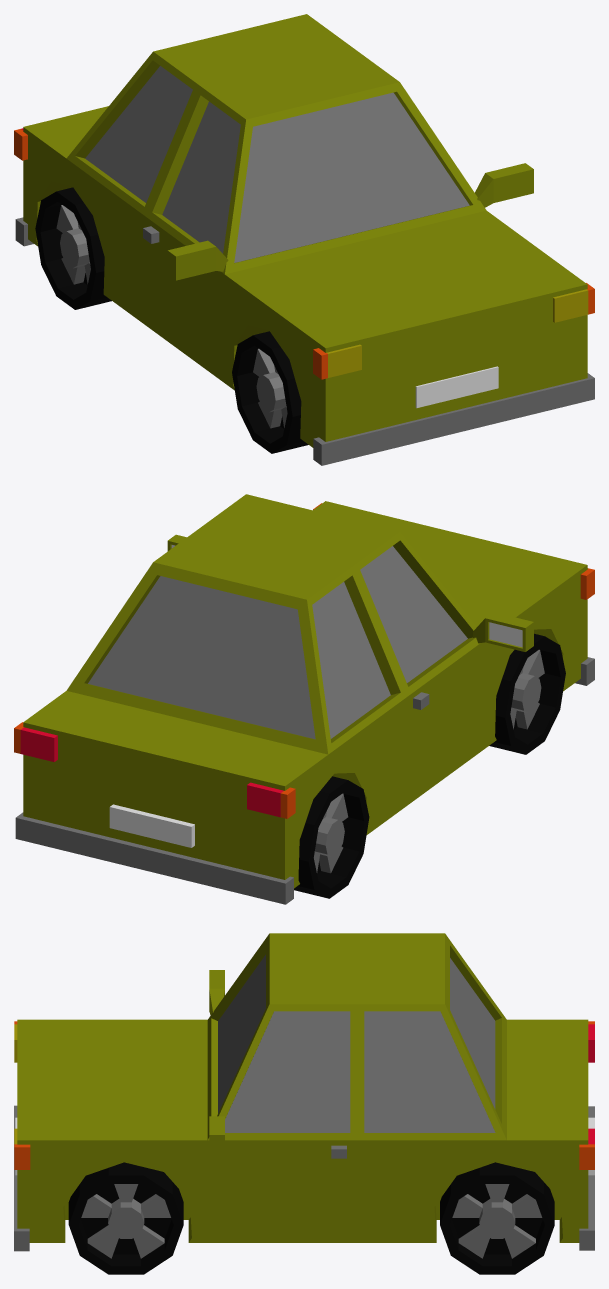
The model's file is CarForGJam.fbx.
The picture shows the model from 3 angles, top to bottom: view 1: azimuth 30°, elevation 25°; view 2: azimuth 150°, elevation 25°; view 3: azimuth 270°, elevation 25°; orthographic projection. The views are drawn at different scales.
Parts seen in each view (by area): view 1: Cube; view 2: Cube; view 3: Cube.
Boxes of the visible parts, box(x1,y1,x2,y2) form: Cube: box(14, 14, 594, 465); Cube: box(14, 494, 594, 904); Cube: box(14, 933, 594, 1274).
Size of the model in its own units: 273 by 188 by 407.
